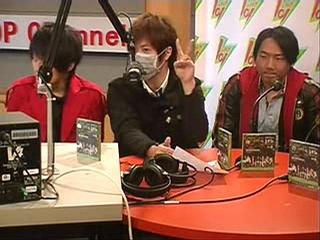NONE: (260, 51, 288, 81)
OK: (128, 41, 167, 80)
